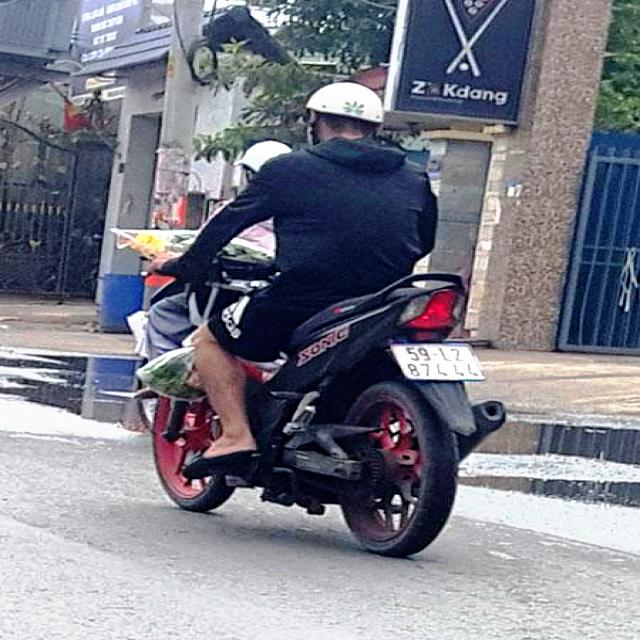license_plate: (394, 347, 487, 382)
